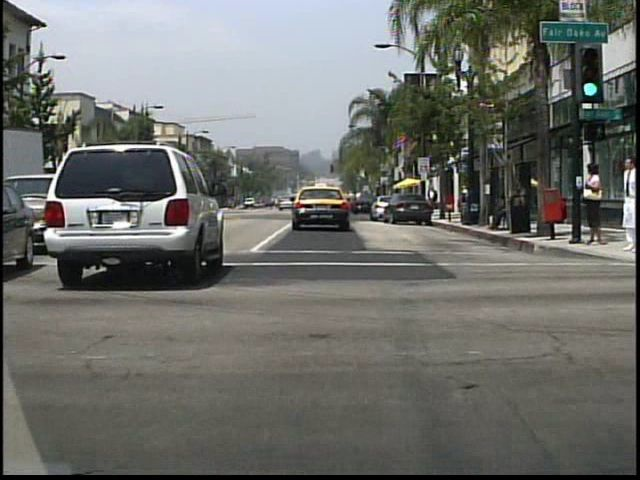person: (578, 162, 605, 246), (486, 191, 514, 232), (510, 179, 524, 228), (427, 184, 439, 213)
